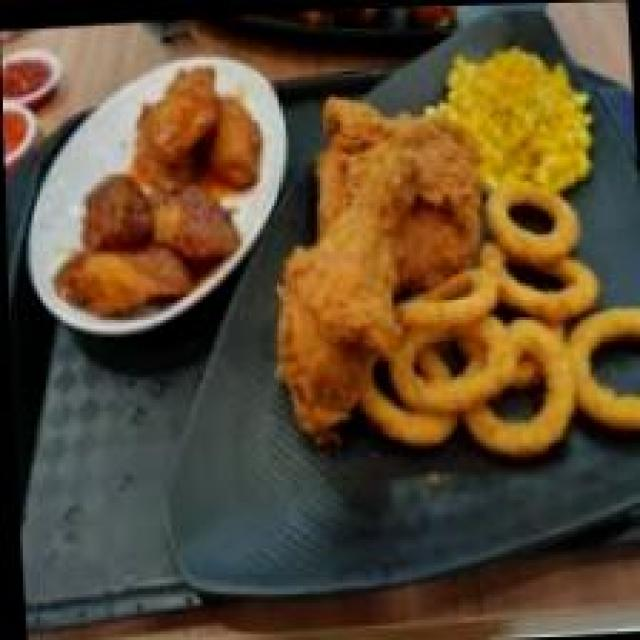Chicken Wings: (48, 42, 486, 444)
Onion Rings: (369, 194, 640, 462)
